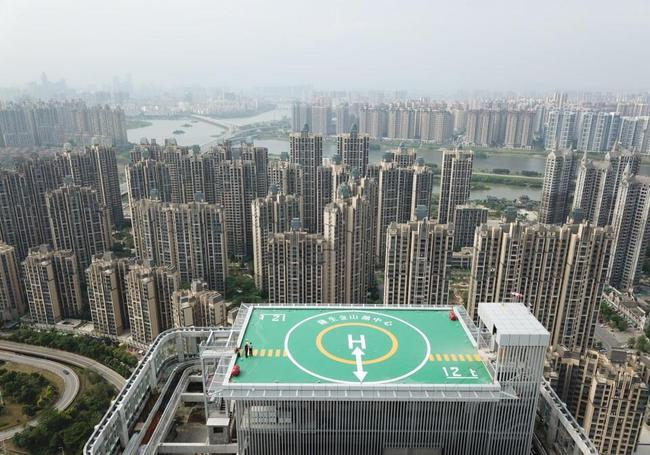Apron: (315, 321, 398, 366)
